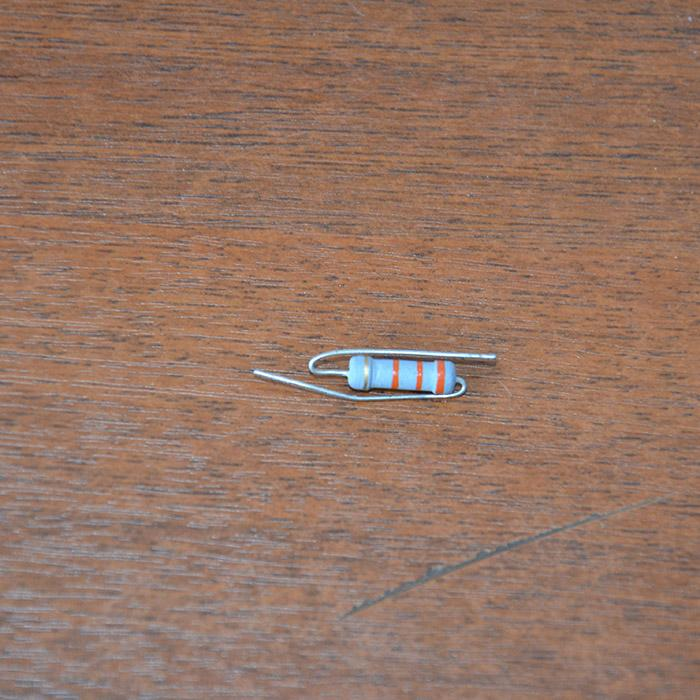resistor: (348, 353, 455, 395)
